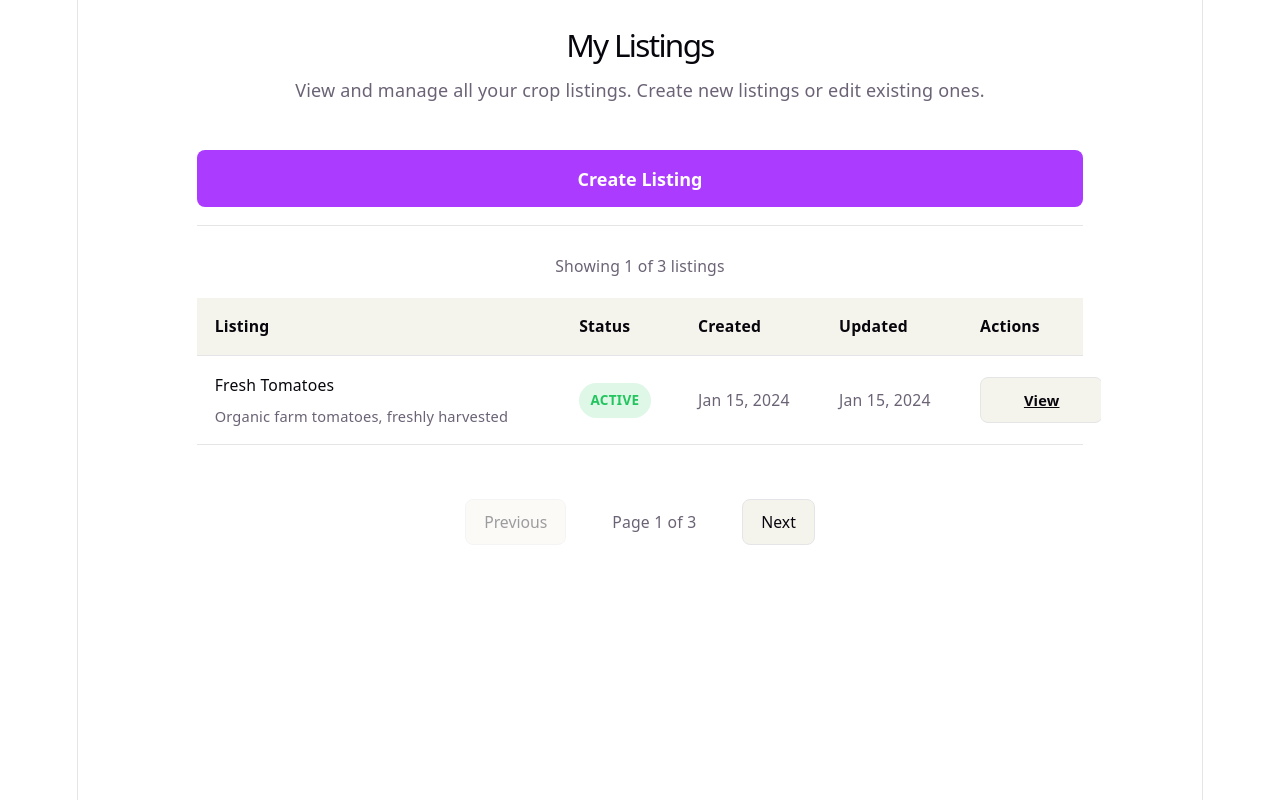
Test: MyListingsPage › Previous button navigates to previous page
The width and height of the screenshot is (1280, 800).
Expected: the text "Page 1 of 3" is shown, top-left (612, 511), bottom-right (696, 533)
What coordinates should you click on to do the following:
click the button "Next"
I would click on:
 (779, 522)
Its box is top-left (742, 499), bottom-right (815, 546).
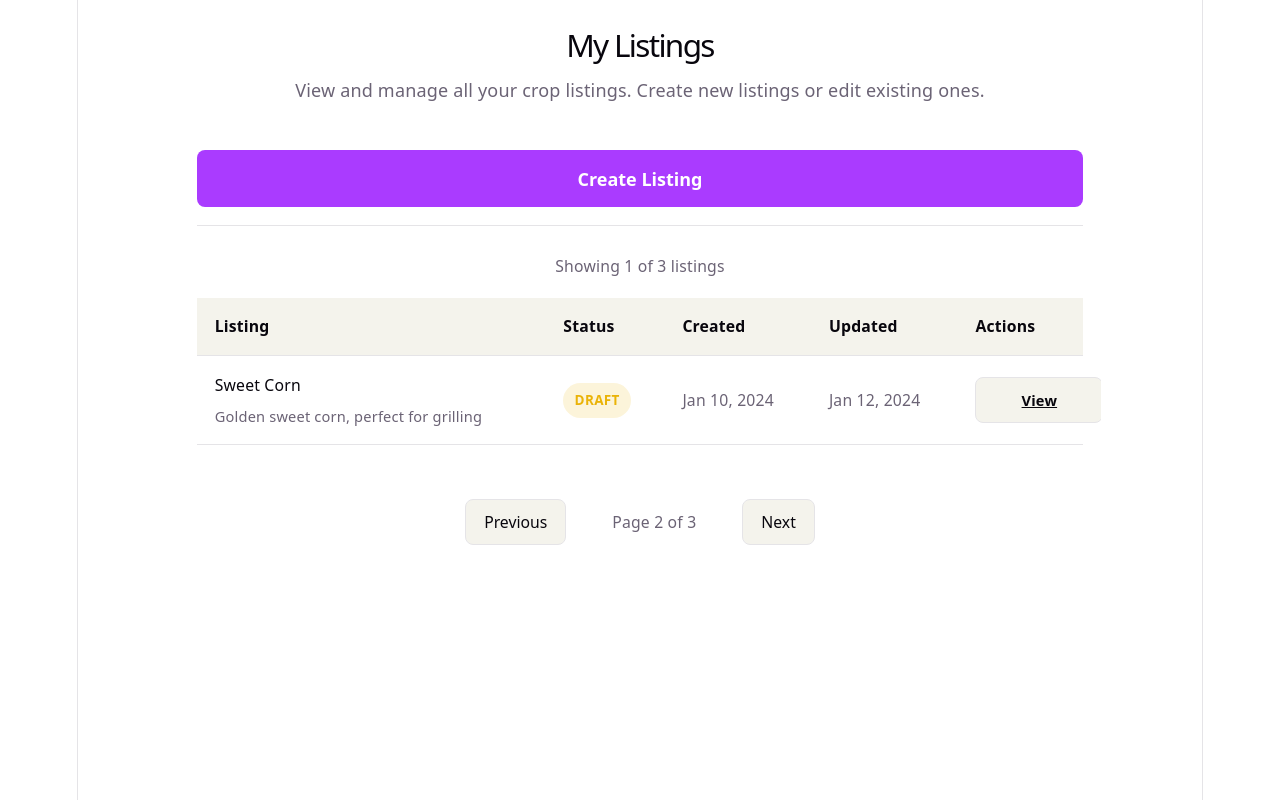
Now the text "Page 2 of 3" is shown, box top-left (612, 511), bottom-right (696, 533)
What coordinates should you click on to do the following:
click the button "Previous"
I would click on:
 (516, 522)
Its box is top-left (465, 499), bottom-right (566, 546).
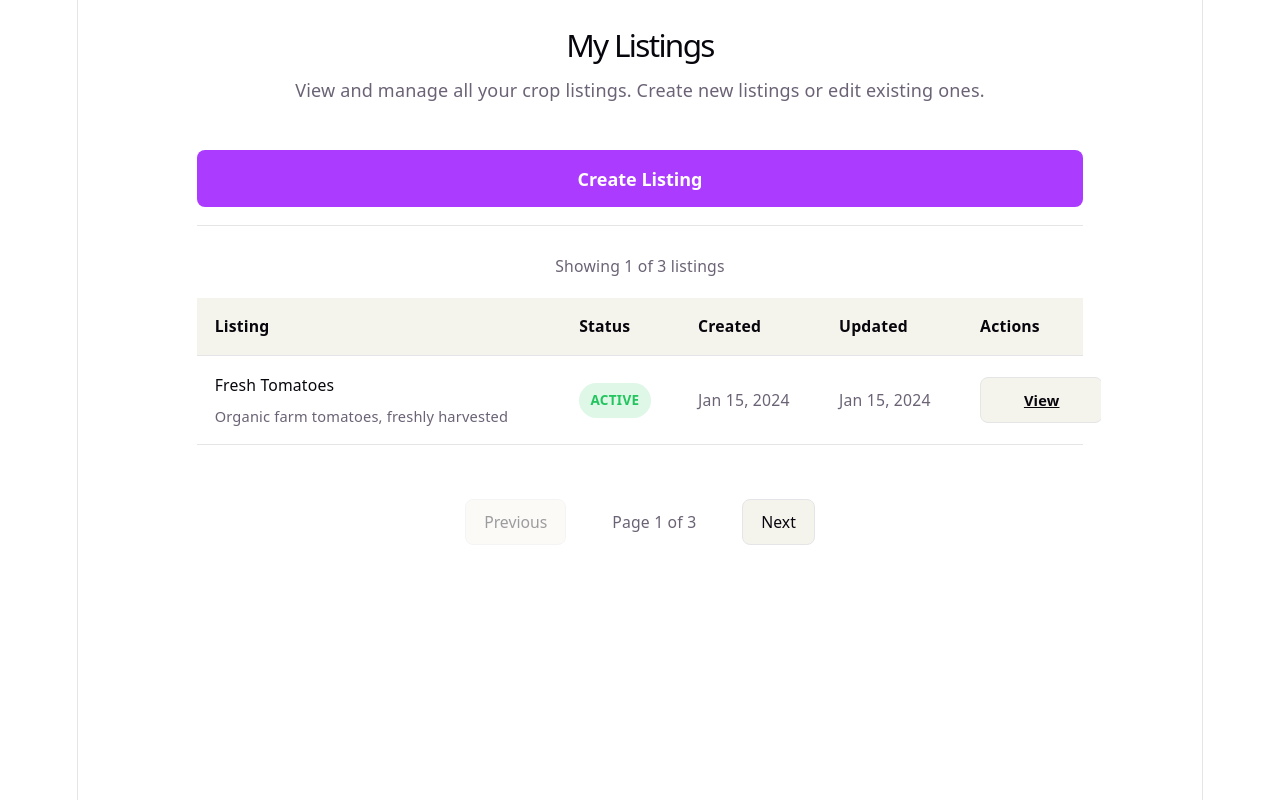
Now the text "Fresh Tomatoes" is shown, box top-left (215, 374), bottom-right (334, 396)
